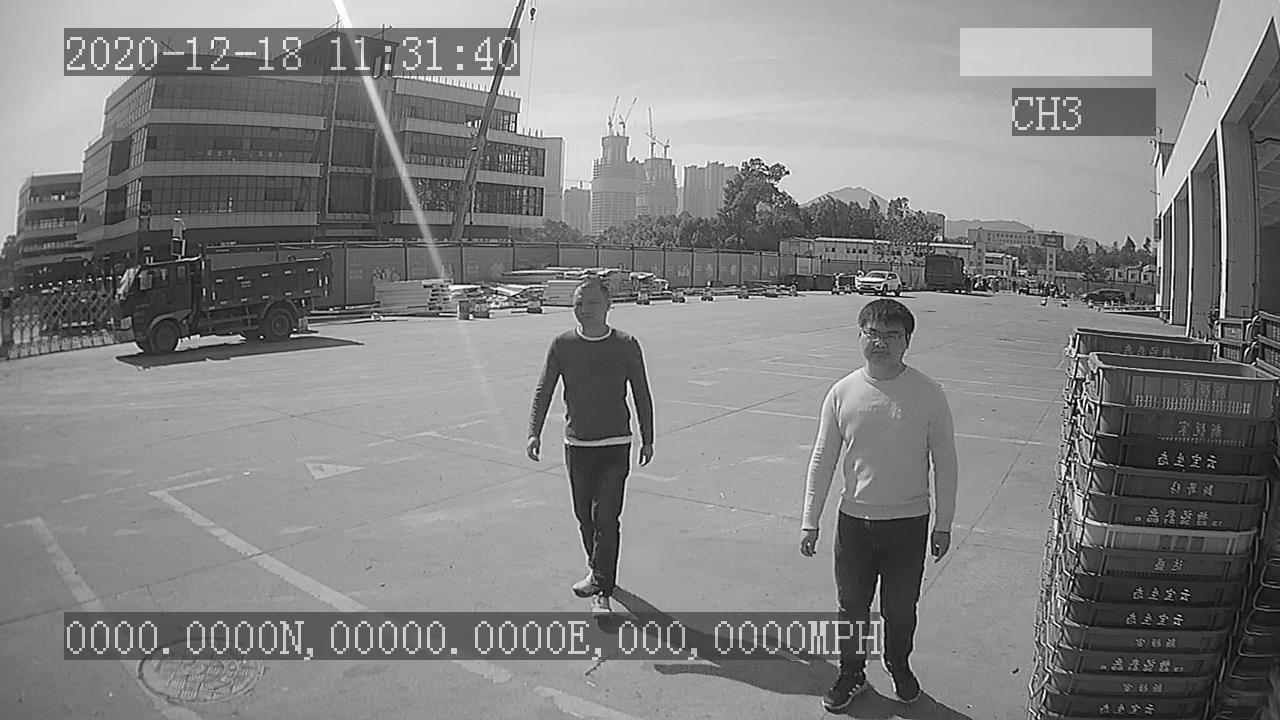person: (528, 274, 663, 610)
